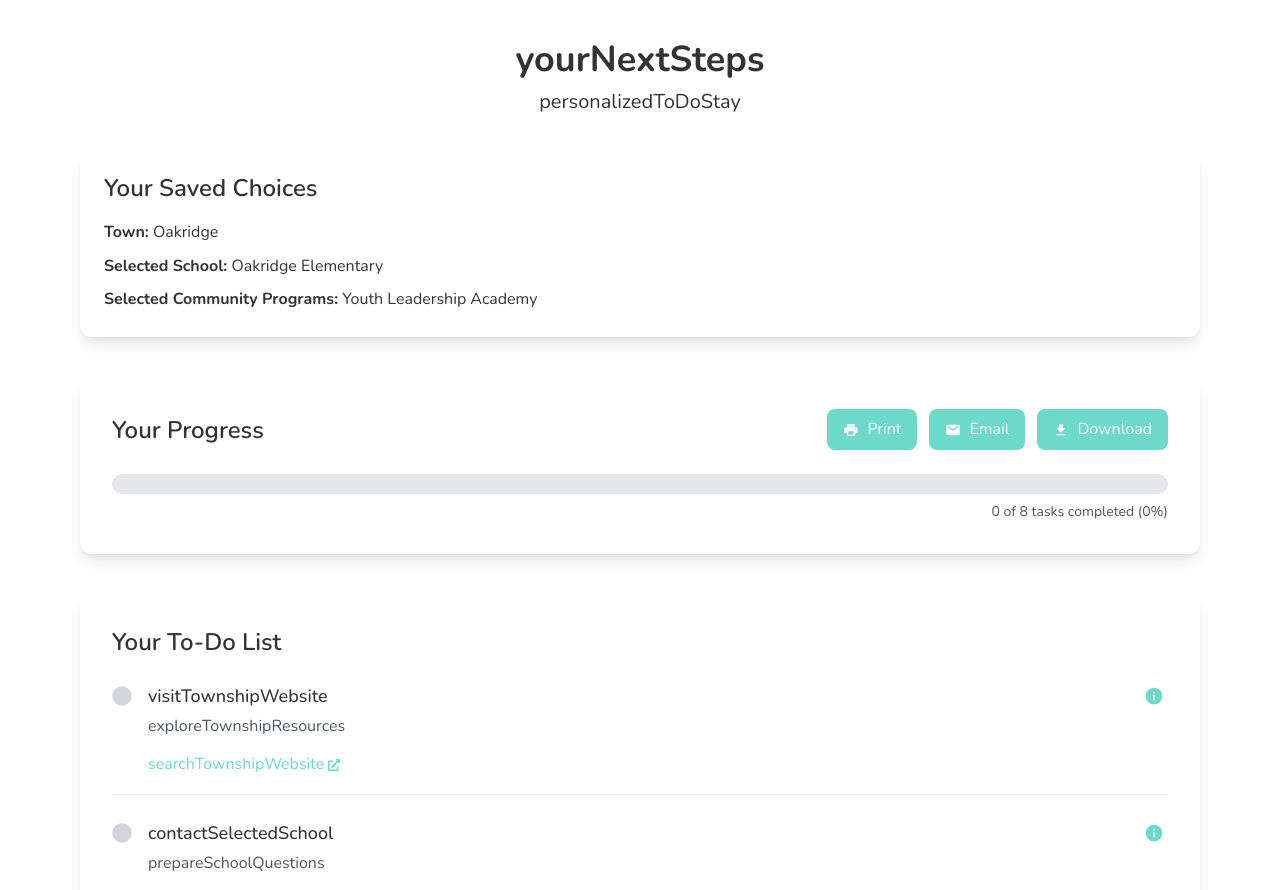
NextSteps Component › Task Interactions › should toggle explanation visibility when info button is clicked
The image size is (1280, 890).
// Click to show explanation
Click the button named "explanation" in the row of "visitTownshipWebsite": click(1154, 696) 1140,682 -> 1168,710
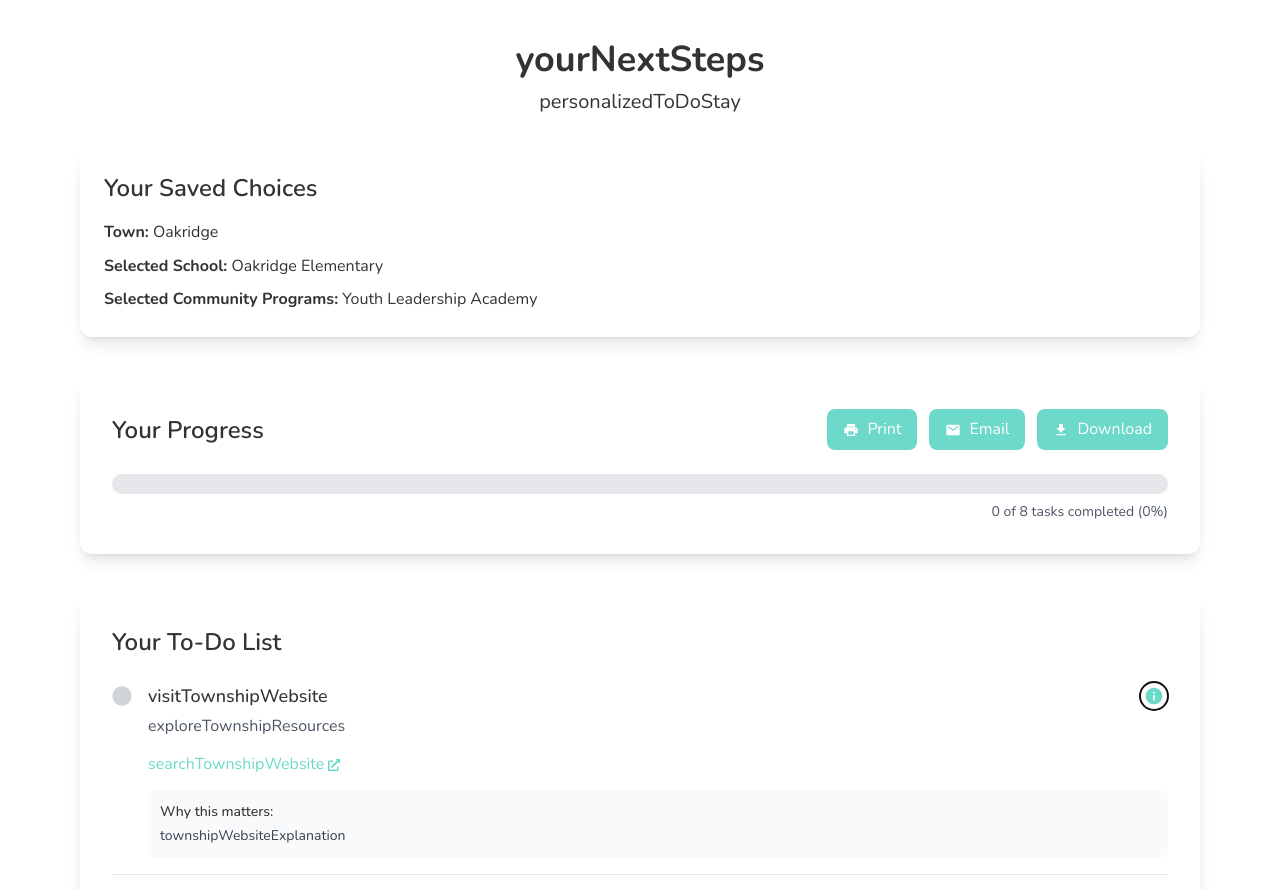
Expected: the heading "Why this matters:" is shown, 160,802 -> 273,821
// Click again to hide explanation
Click the button named "explanation": click(1154, 696) 1140,682 -> 1168,710
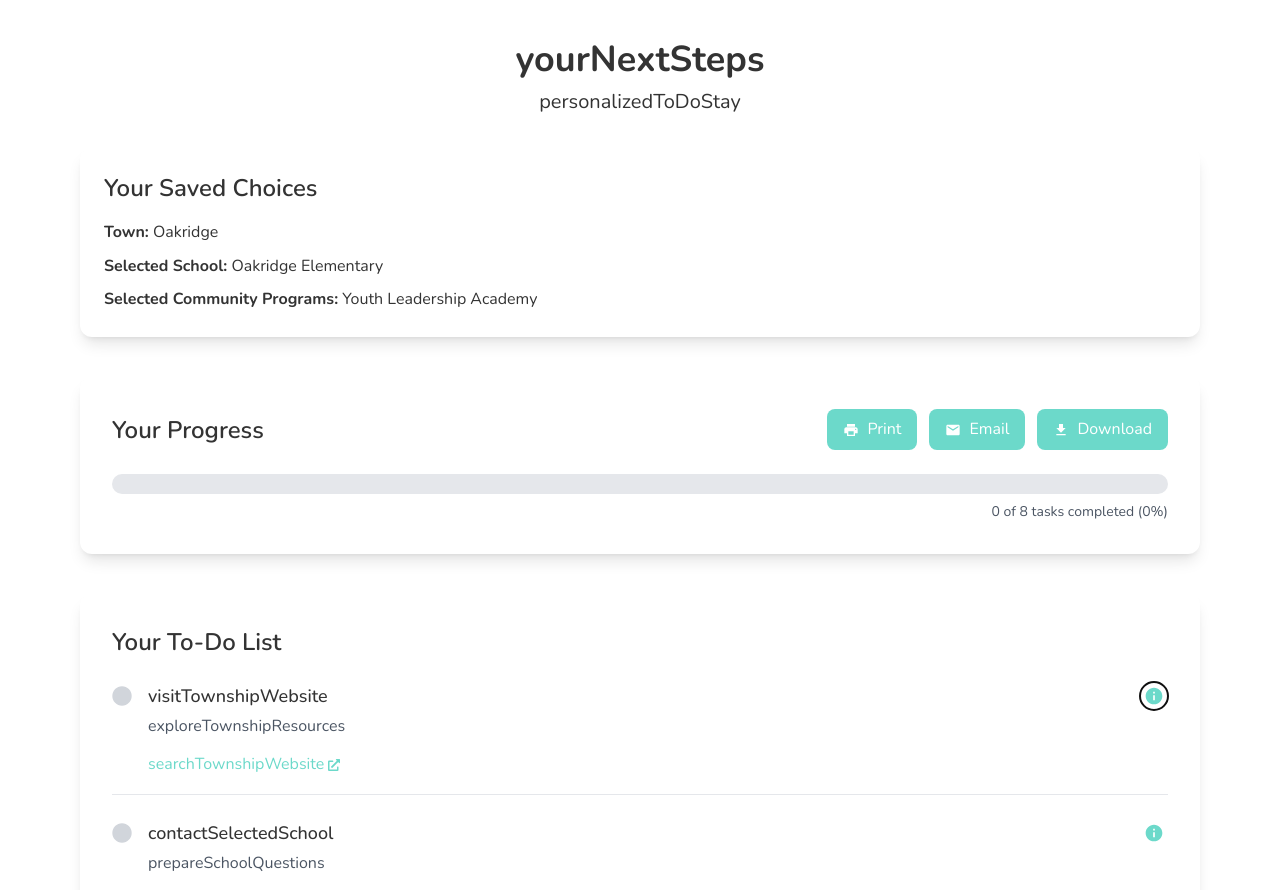
Expected: the heading "Why this matters:" is gone
